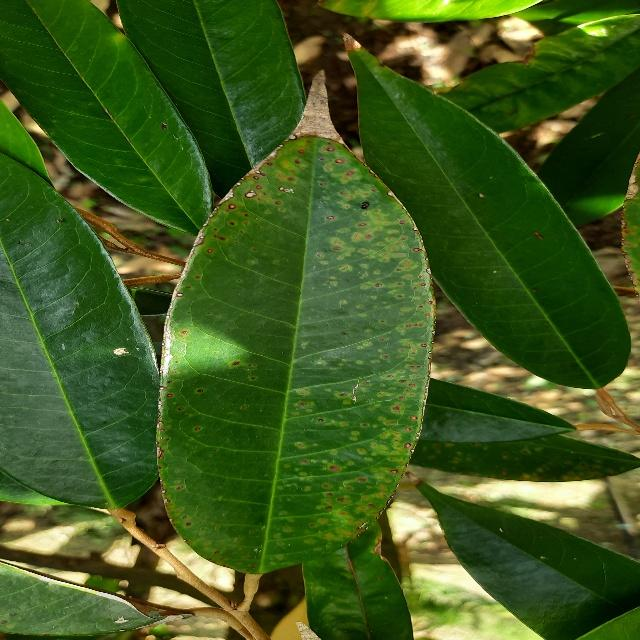Leaf Spot: (147, 124, 441, 585)
